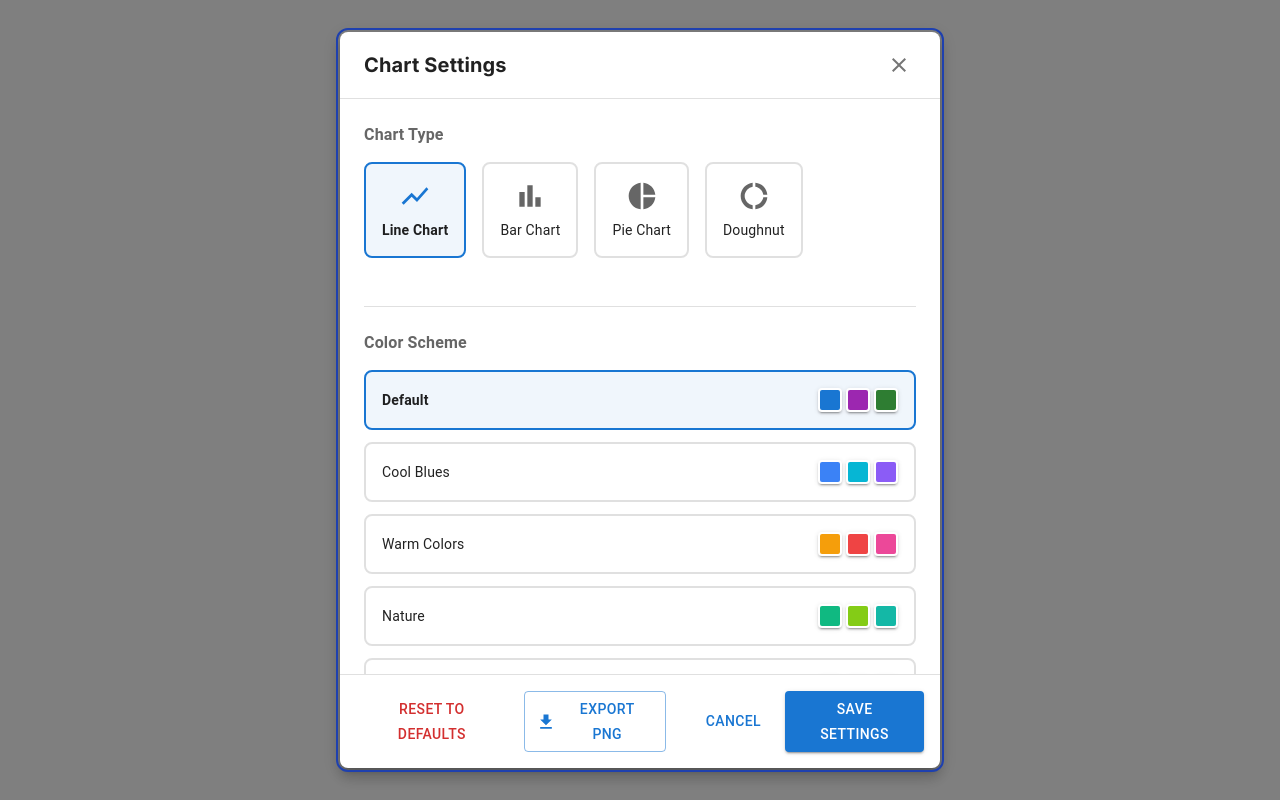
ChartSettingsDialog › displays success message after saving
The image size is (1280, 800).
What coordinates should you click on to do the following:
click the button "Save Settings"
I would click on:
 (854, 722)
Its box is x1=785 y1=691 x2=924 y2=752.
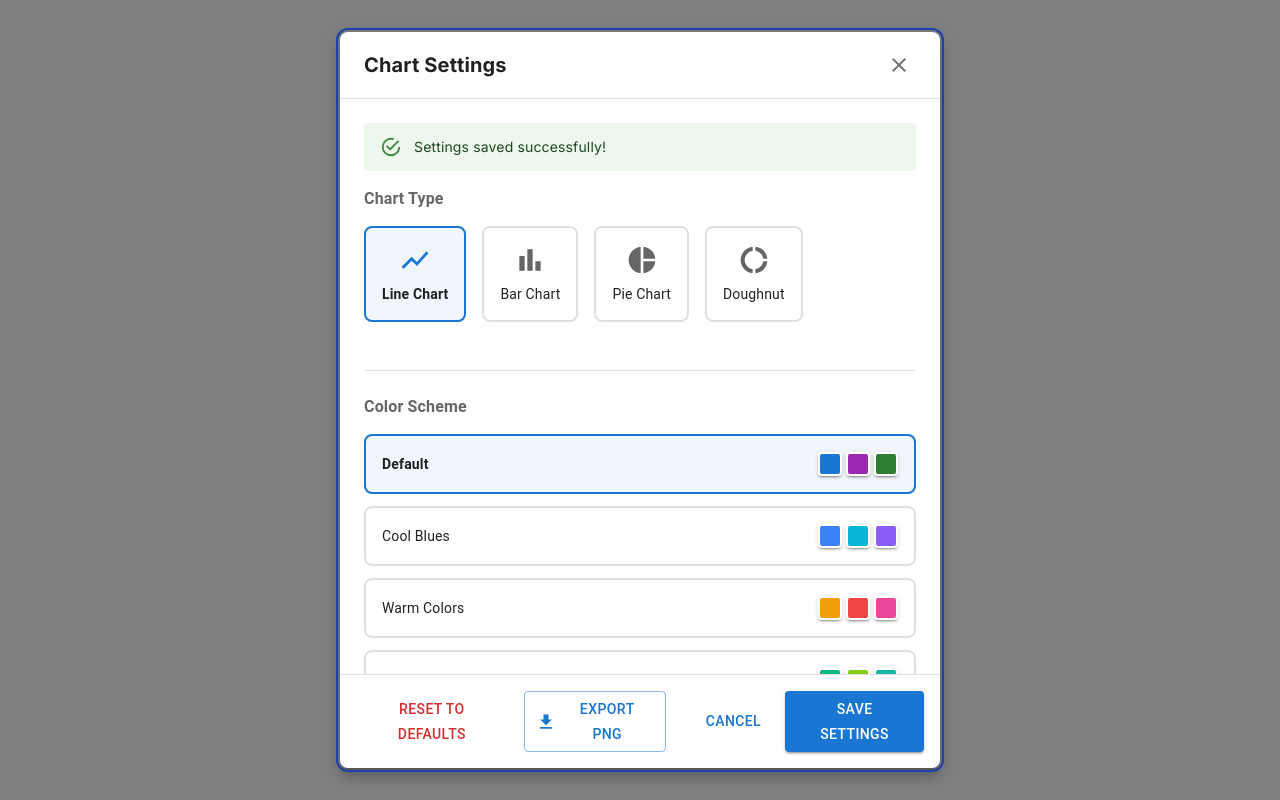
Expected: the text "Settings saved successfully!" is shown, x1=414 y1=138 x2=606 y2=155
